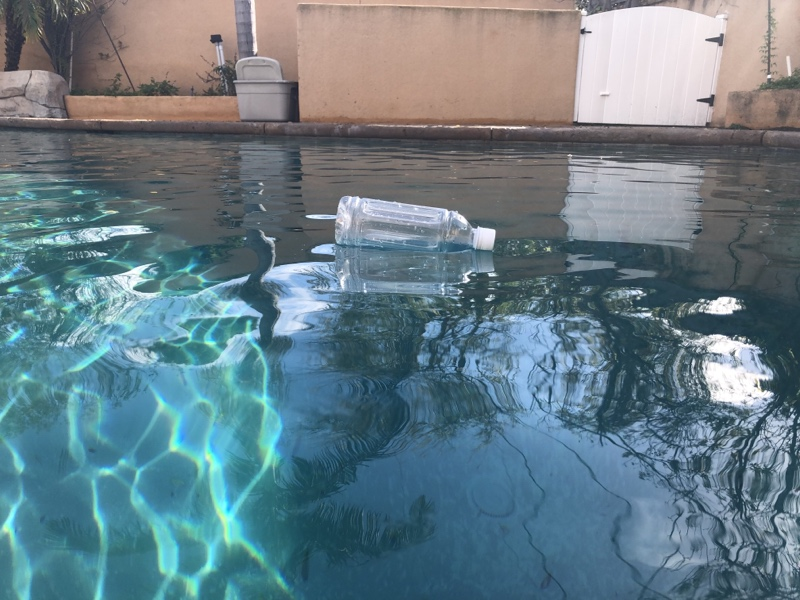Plastic Bottle: (331, 188, 497, 257)
